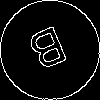B: (25, 25, 74, 80)
